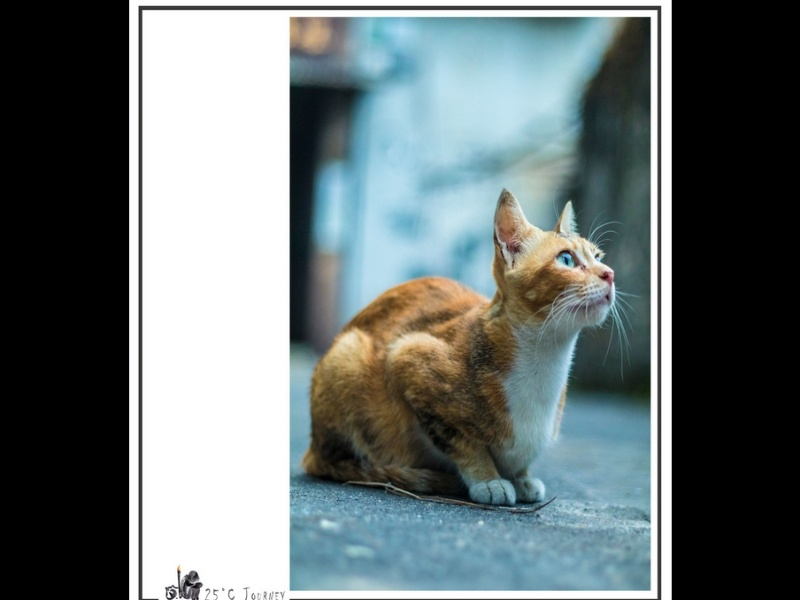cat: (297, 188, 623, 508)
